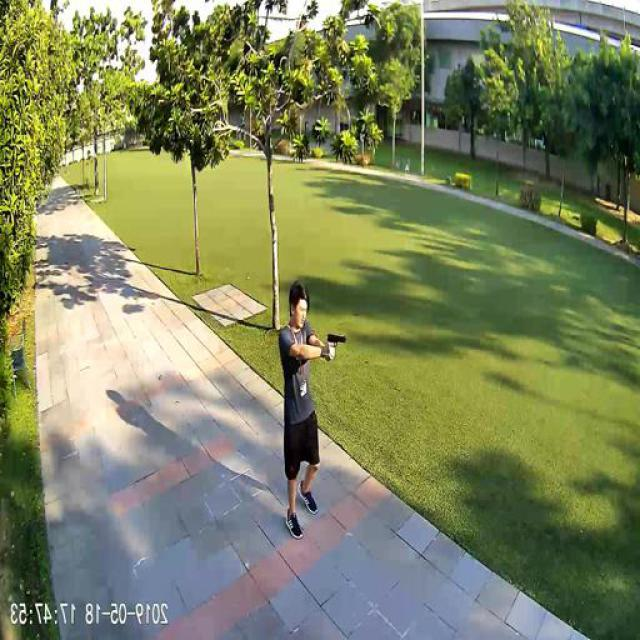Gun: (329, 330, 349, 346)
